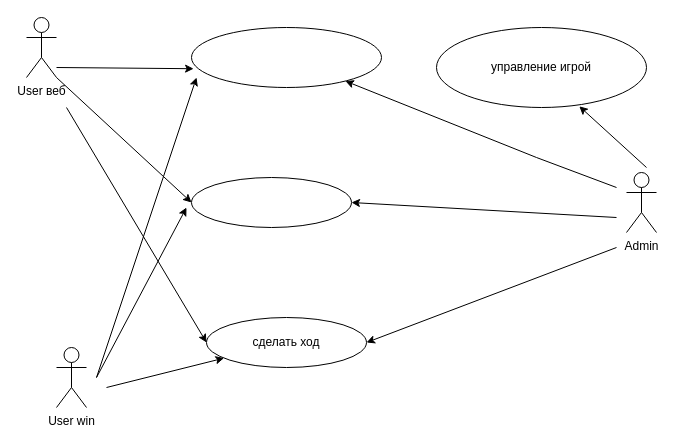
This 675x446 diagram has some shape labels left out. The shapes that lost their labels are listed below. From the top down, each one's centre as x and y in pixels, then its label:
[286,57]: новая игра авторизация
[271,202]: размещение корабли
